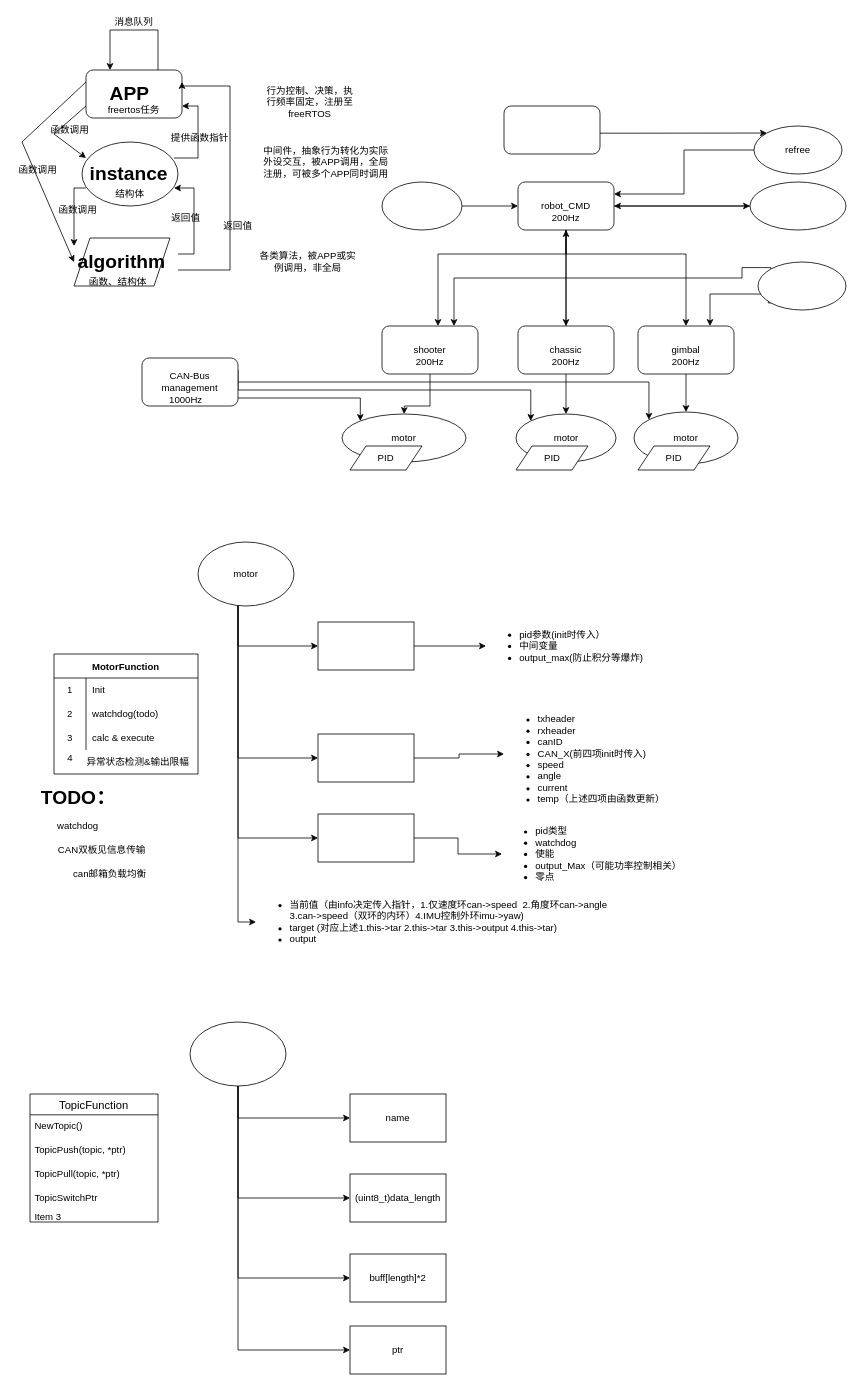
The diagram is 860 pixels wide and 1388 high, and some of its shapes have lost their labels. Here are the shapes that lost their labels. From the top down, the centre of each, then its label:
pixel 551 129: UI_draw
pixel 421 205: IMU
pixel 797 205: remote
pixel 801 285: nuc
pixel 365 645: PID（x2，outer、inner）
pixel 365 757: CAN
pixel 365 837: info
pixel 237 1053: topic
